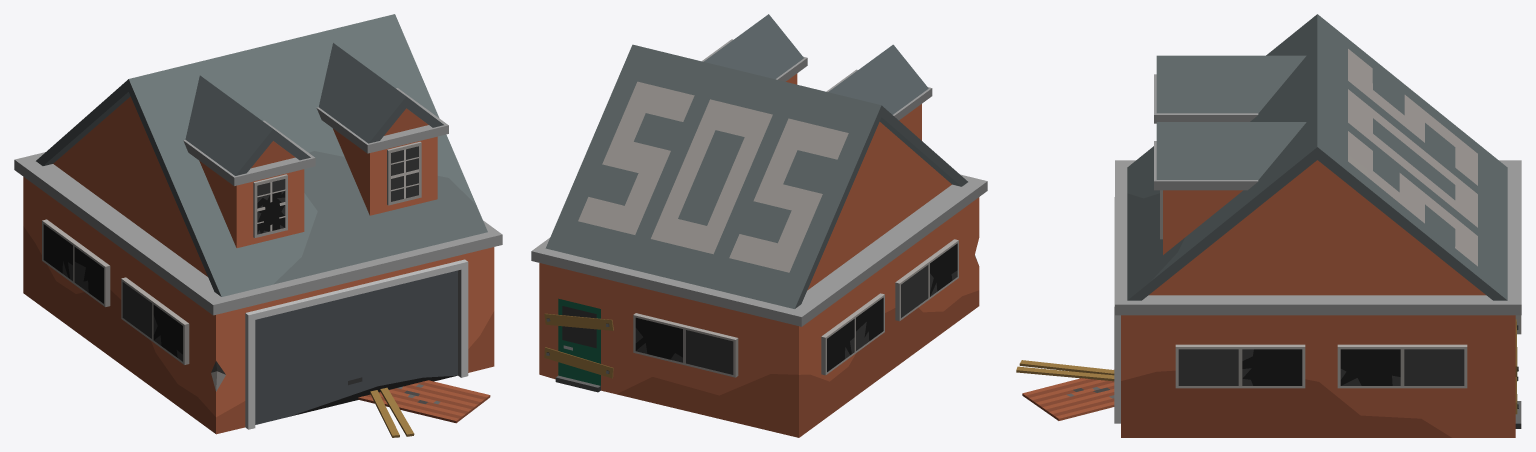
The model's file is SA_Bld_HouseGarage_01.gltf.
3 renders of one model, left to right at view 1: azimuth 30°, elevation 25°; view 2: azimuth 150°, elevation 25°; view 3: azimuth 270°, elevation 25°, orthographic. The views are drawn at different scales.
Parts seen in each view (by area): view 1: SA_Bld_HouseGarage_01; view 2: SA_Bld_HouseGarage_01; view 3: SA_Bld_HouseGarage_01.
Part boxes in pixels (x1=…): SA_Bld_HouseGarage_01: x1=14, y1=14, x2=502, y2=437; SA_Bld_HouseGarage_01: x1=531, y1=14, x2=987, y2=437; SA_Bld_HouseGarage_01: x1=1016, y1=14, x2=1521, y2=437.
Size of the model in its own units: 12.37 by 11.61 by 18.29.
Materials: 1 (1 with a texture image).
